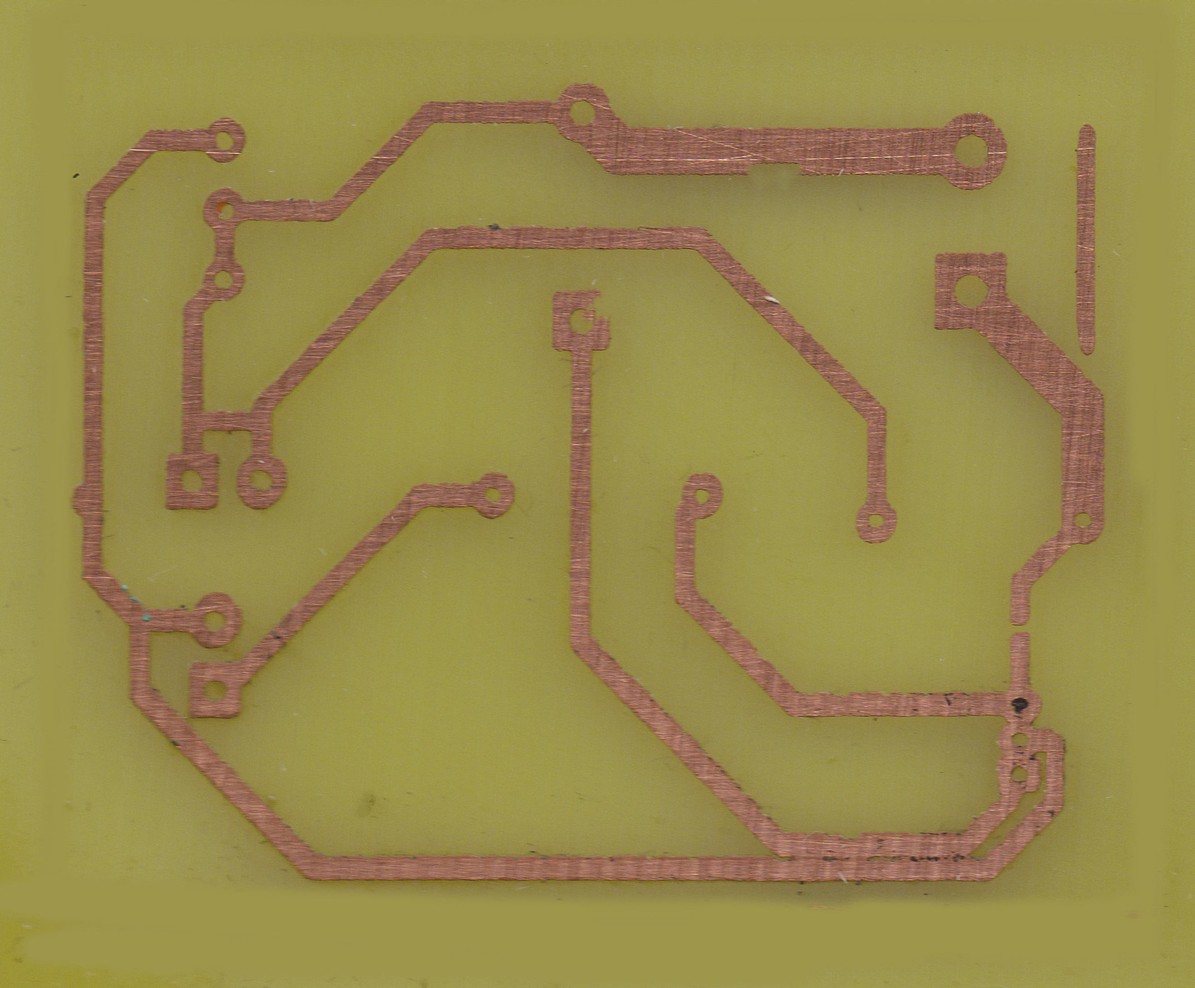missing_hole: (546, 282, 615, 362)
mouse_bite: (743, 160, 803, 181)
open_circuit: (1009, 608, 1031, 647)
short: (180, 403, 273, 443)
spur: (69, 477, 104, 522)
spurious_copper: (1073, 123, 1099, 357)
